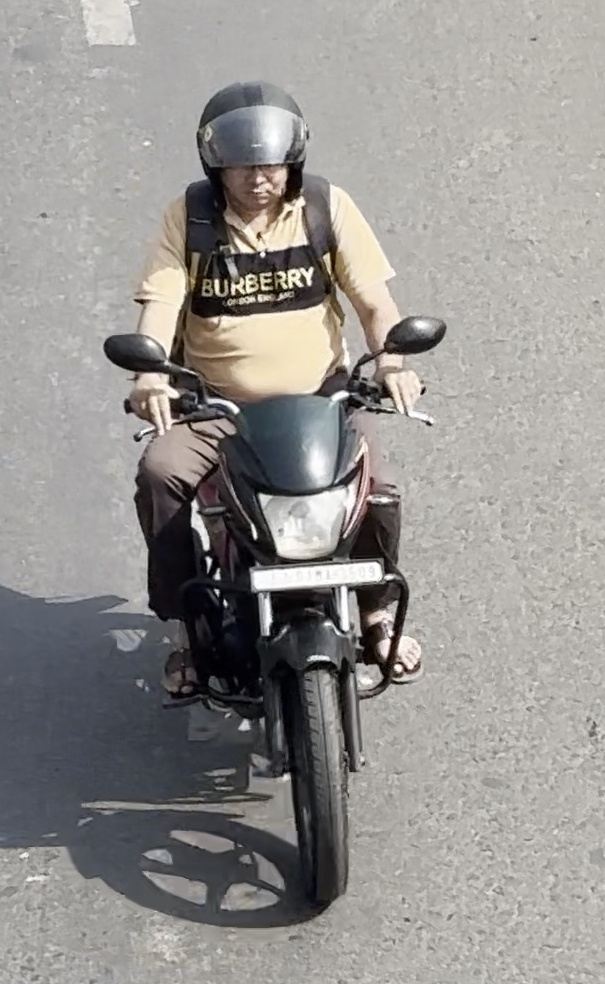BikeWithRider: (92, 71, 457, 920)
Helmet: (181, 71, 322, 222)
